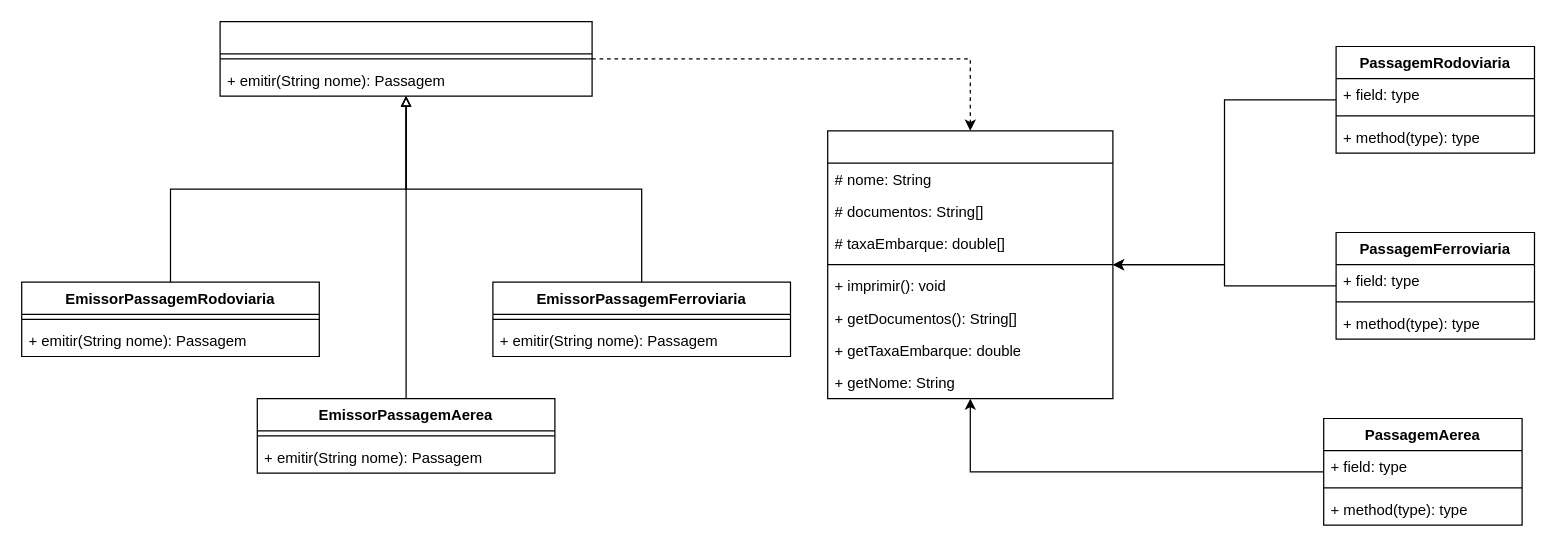
This 1556x551 diagram has some shape labels left out. Here are the shapes that lost their labels. From the top down, the box of each, then its label:
(219, 20, 592, 96): AbsEmissor
(826, 130, 1113, 399): Passagem
